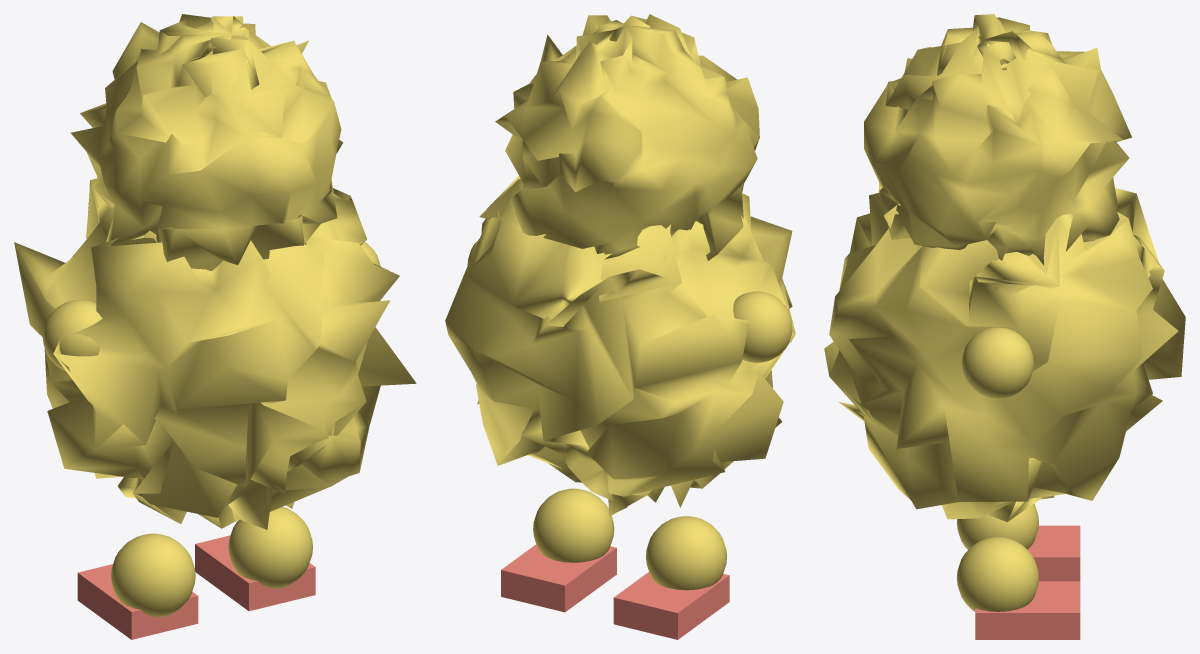
Rendered from clay_banana_chimp.glb.
3 views of the same model, side by side, from view 1: azimuth 30°, elevation 25°; view 2: azimuth 150°, elevation 25°; view 3: azimuth 270°, elevation 25° (orthographic). The views are drawn at different scales.
Visible parts, largest first — view 1: sneakers2; view 2: sneakers2; view 3: sneakers2.
Boxes of the visible parts, x1,y1,x2,y2 form: sneakers2: [14, 14, 416, 639]; sneakers2: [445, 14, 795, 639]; sneakers2: [824, 14, 1185, 639].
Size of the model in its own units: 1.24 by 2.1 by 1.21.
